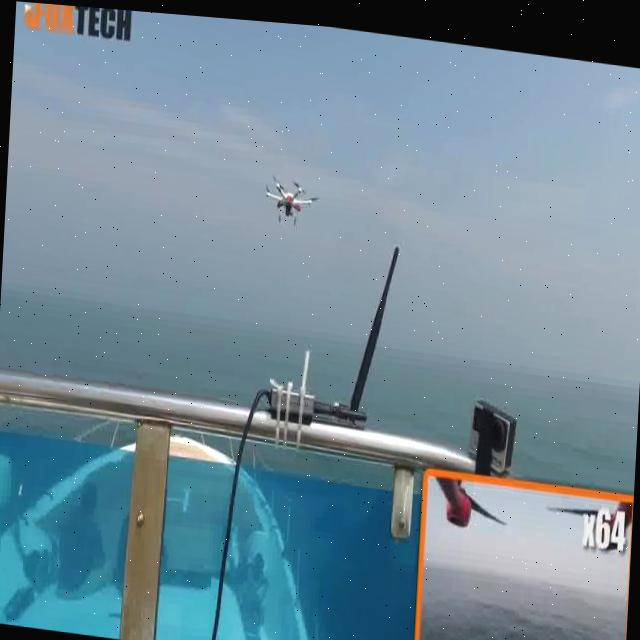drone: (255, 159, 323, 236)
